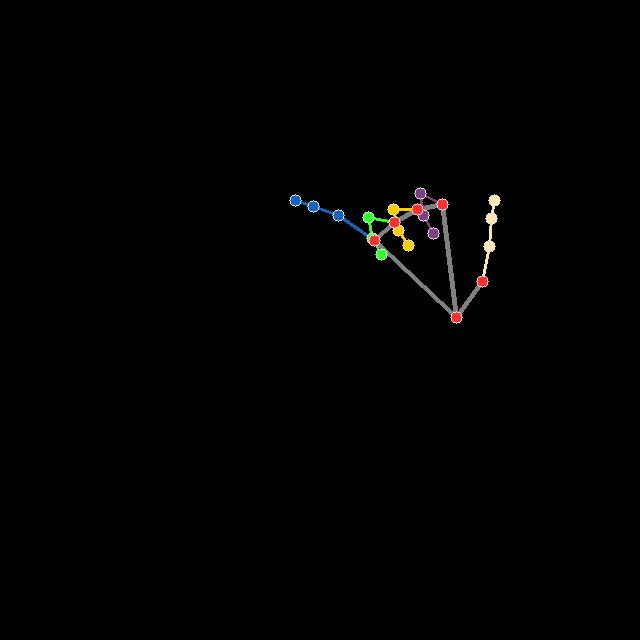skr: (287, 185, 501, 324)
